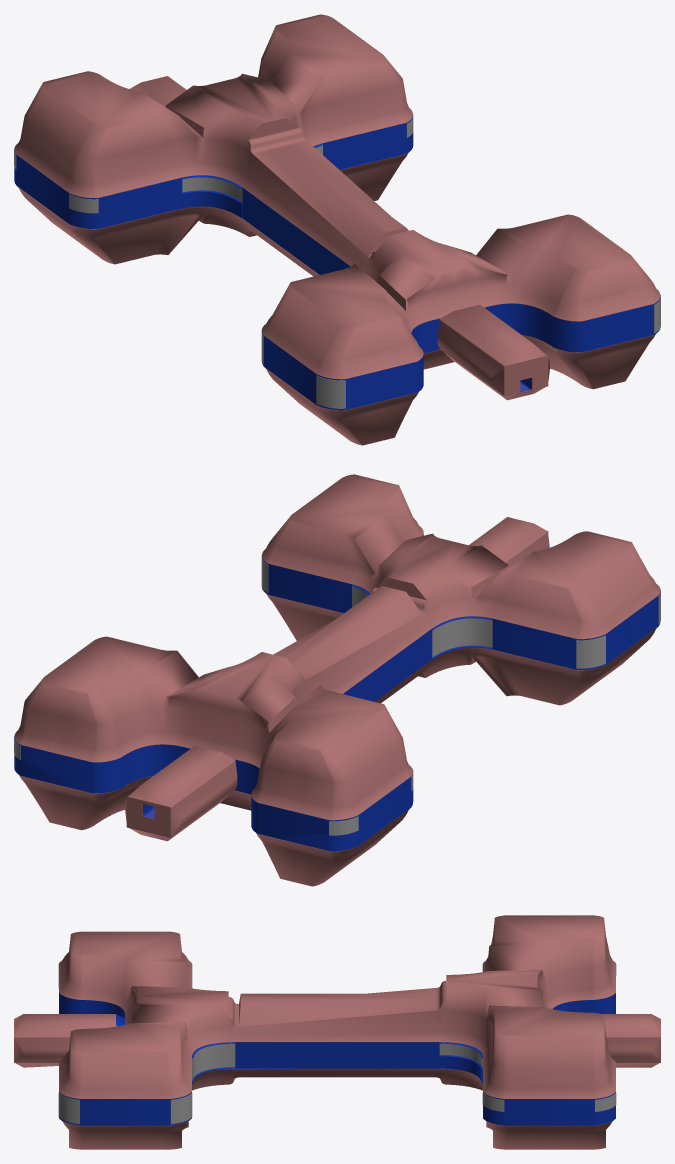
Rendered from SS Module 14.FBX.
The picture shows the model from 3 angles, top to bottom: view 1: azimuth 30°, elevation 25°; view 2: azimuth 150°, elevation 25°; view 3: azimuth 270°, elevation 25°; orthographic projection. The views are drawn at different scales.
Visible parts, largest first — view 1: Plane068; view 2: Plane068; view 3: Plane068.
Boxes of the visible parts, box(x1,y1,x2,y2) form: Plane068: box(14, 14, 660, 445); Plane068: box(14, 474, 660, 886); Plane068: box(14, 915, 660, 1149).
Bounding box in the file's own units: 115 × 43.93 × 220.
